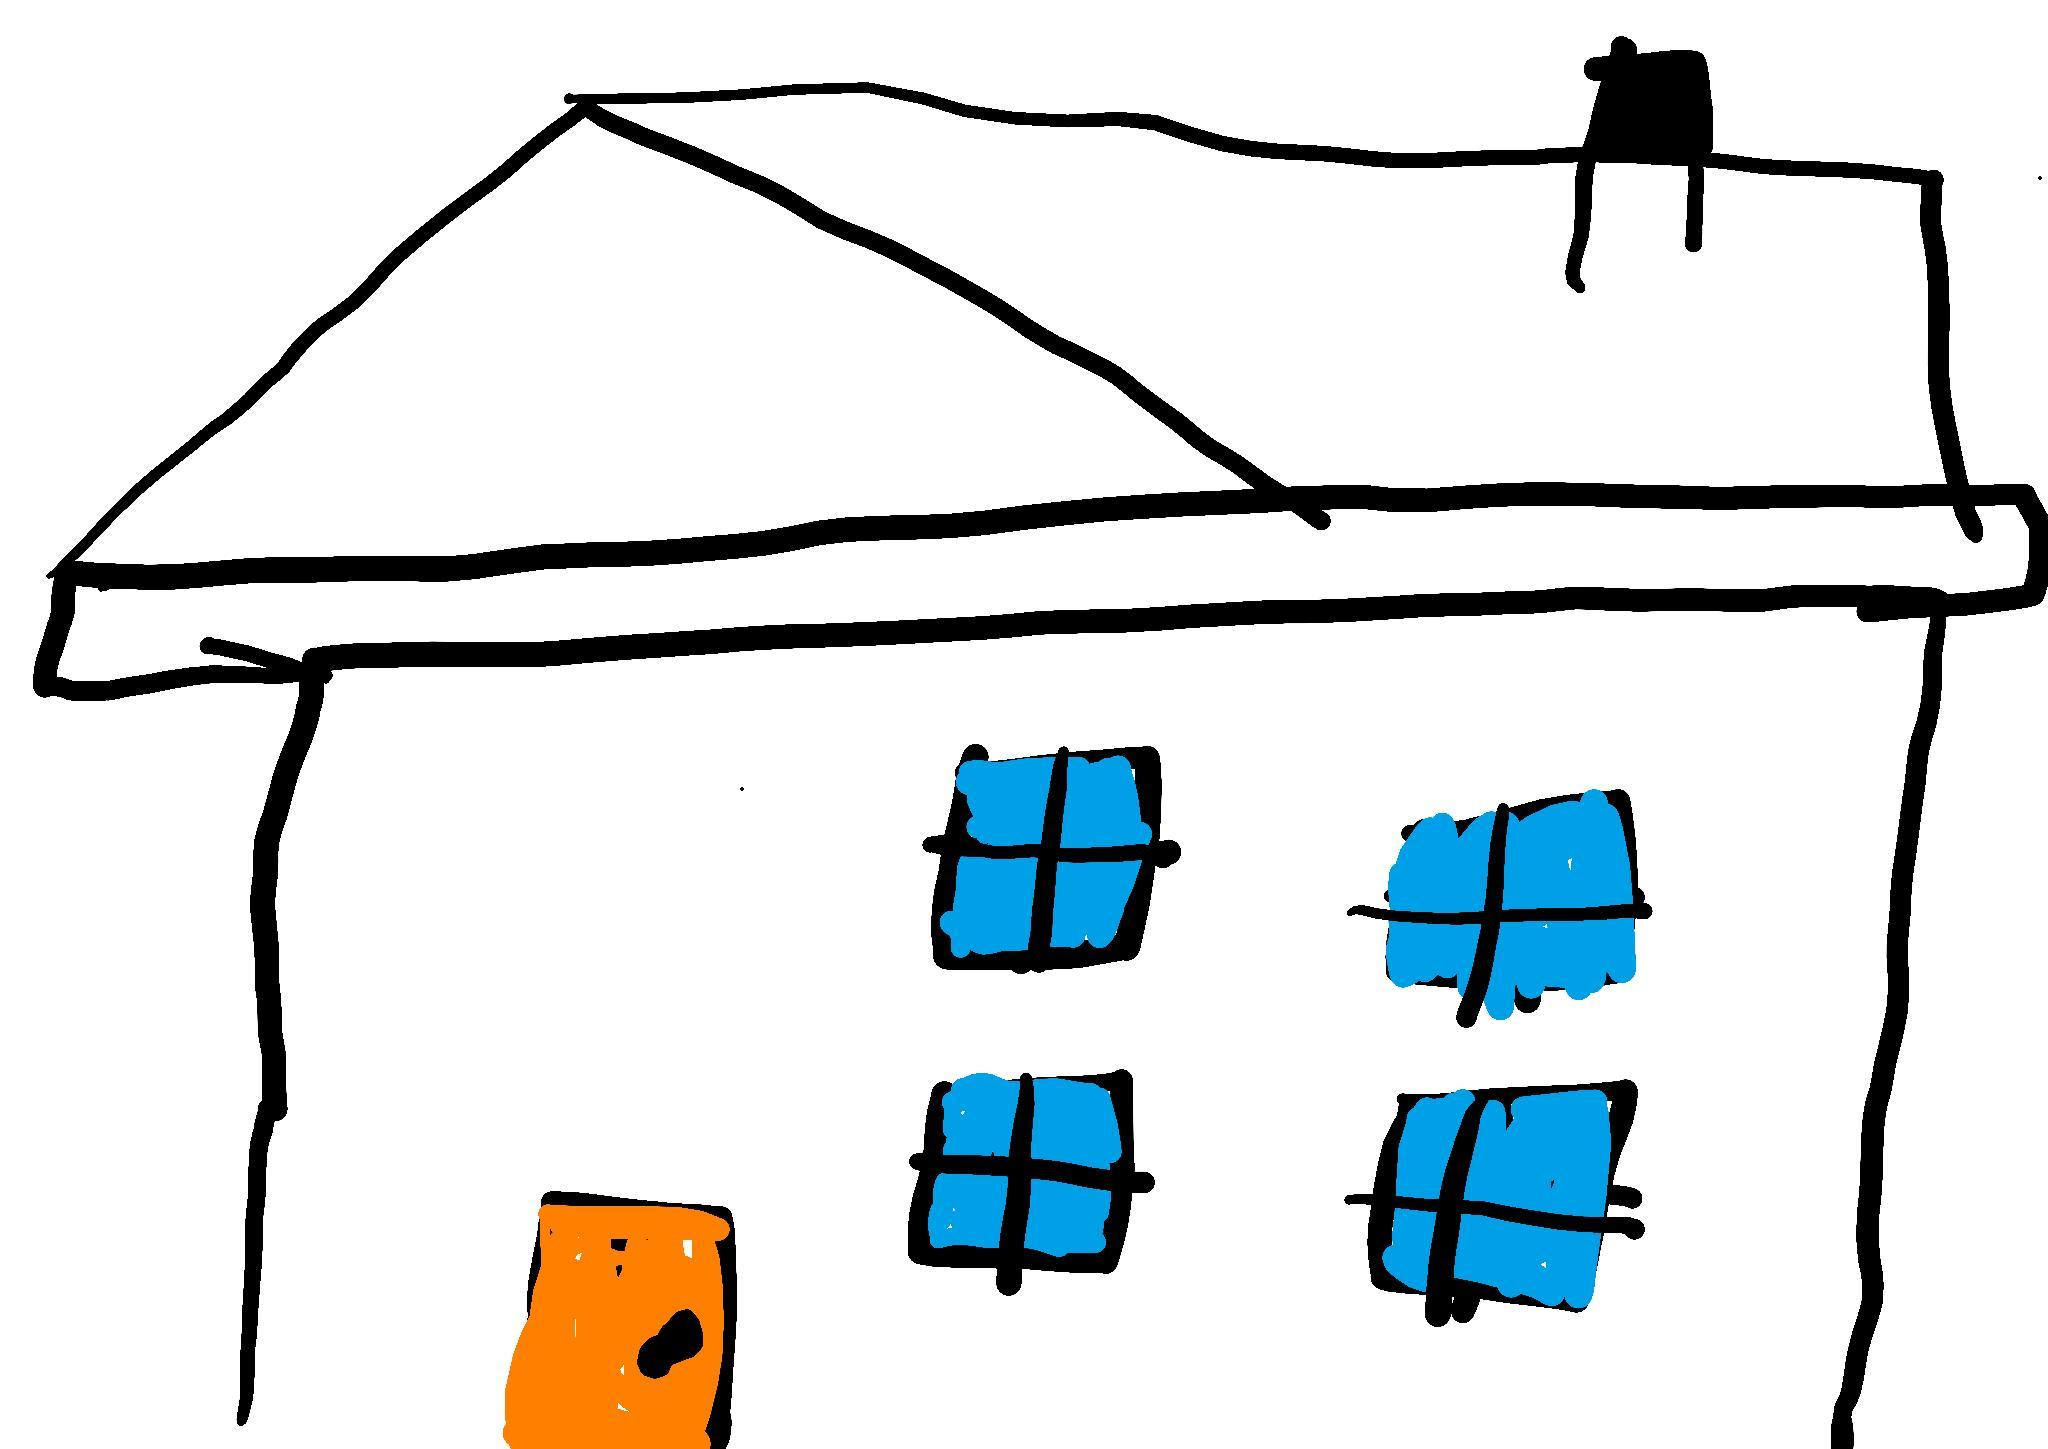chimney: (1582, 33, 1716, 174)
door: (503, 1197, 734, 1449)
house: (24, 39, 2048, 1449)
roof: (42, 75, 2048, 679)
wall: (216, 608, 1954, 1449)
window: (1350, 1082, 1647, 1328), (1360, 790, 1651, 1026), (927, 745, 1181, 974), (913, 1074, 1153, 1295)
